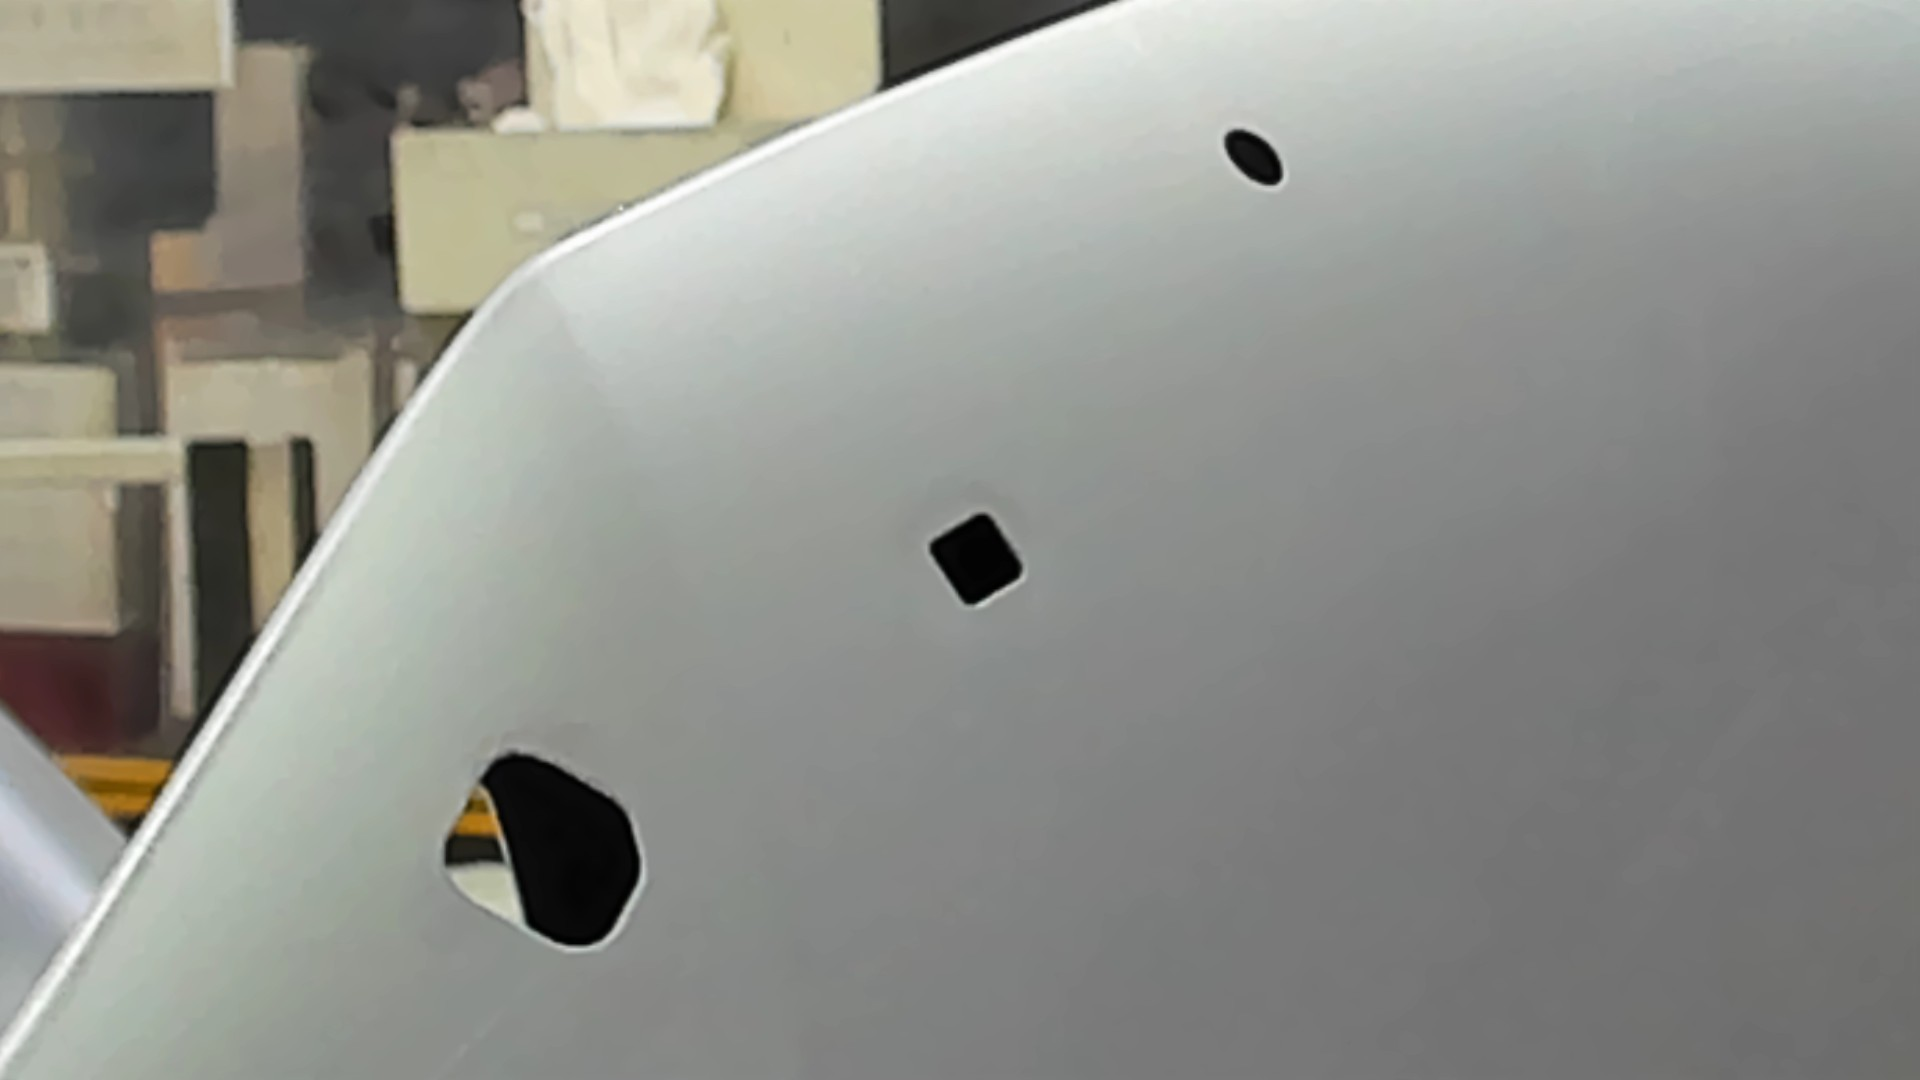capo: (1042, 207, 1920, 1080)
chico: (1218, 123, 1288, 191)
grande: (433, 740, 651, 963)
mediano: (919, 504, 1029, 615)
